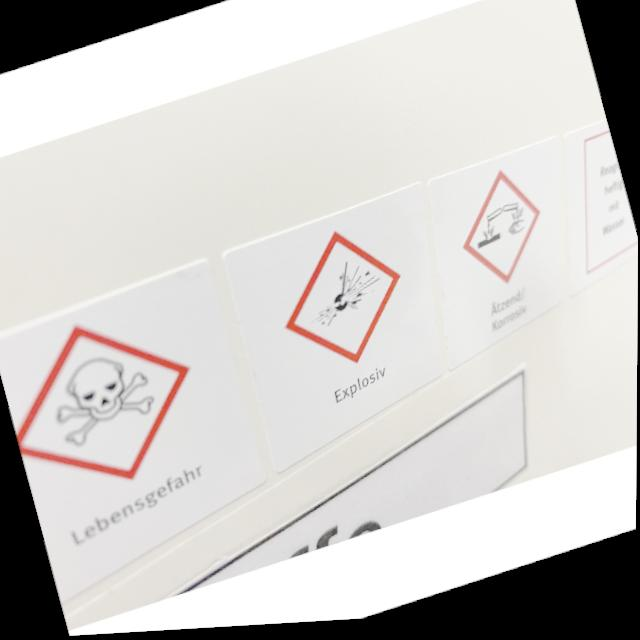acute toxicity: (43, 343, 161, 454)
corrosive: (469, 205, 530, 255)
explosive: (299, 257, 389, 335)
